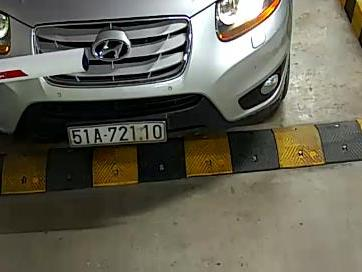number: (67, 120, 165, 147)
